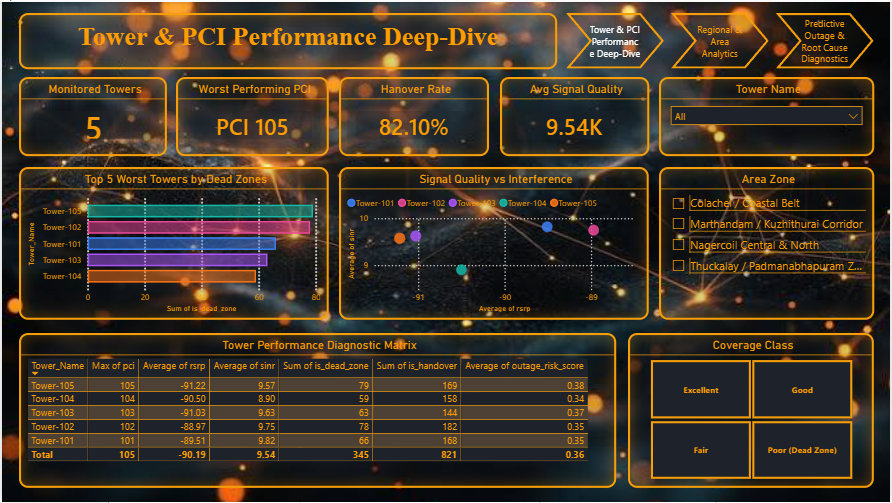

The dashboard page shown, as its layout file describes it:
{"tool":"powerbi","page":{"name":"Tower & PCI Performance Deep-Dive","canvas":[1280,720],"ordinal":1},"visuals":[{"type":"textbox","box":[24.5,15.8,774.7,80.6],"z":0},{"type":"cardVisual","title":"Monitored Towers","fields":{"Data":["Count(processed_drive_test.Tower_Name)"]},"box":[24.5,108,213.1,113.8],"z":1000},{"type":"cardVisual","title":"Worst Performing PCI","fields":{"Data":["processed_drive_test.Worst_PCI"]},"box":[250.6,108,220.3,113.8],"z":2000},{"type":"cardVisual","title":"Hanover Rate","fields":{"Data":["processed_drive_test.Handover_Rate"]},"box":[485.3,108,216,113.8],"z":3000},{"type":"cardVisual","title":"Avg Signal Quality","fields":{"Data":["Sum(processed_drive_test.sinr)"]},"box":[717.1,108,214.6,113.8],"z":4000},{"type":"clusteredBarChart","title":"Top 5 Worst Towers by Dead Zones","fields":{"Category":["processed_drive_test.Tower_Name"],"Y":["Sum(processed_drive_test.is_dead_zone)"]},"box":[24.5,237.6,446.4,220.3],"z":5000},{"type":"scatterChart","title":"Signal Quality vs Interference","fields":{"Series":["processed_drive_test.Tower_Name"],"Size":["Avg(processed_drive_test.outage_risk_score)"],"X":["Avg(processed_drive_test.rsrp)"],"Y":["Avg(processed_drive_test.sinr)"]},"box":[485.3,237.6,446.4,220.3],"z":6000},{"type":"tableEx","title":"Tower Performance Diagnostic Matrix","fields":{"Values":["processed_drive_test.Tower_Name","Max(processed_drive_test.pci)","Avg(processed_drive_test.rsrp)","Avg(processed_drive_test.sinr)","Sum(processed_drive_test.is_dead_zone)","Sum(processed_drive_test.is_handover)","Avg(processed_drive_test.outage_risk_score)"]},"box":[24.5,476.6,859.7,223.2],"z":7000},{"type":"slicer","title":"Tower Name","fields":{"Values":["processed_drive_test.Tower_Name"]},"box":[946.1,108,309.6,113.8],"z":8000},{"type":"slicer","title":"Coverage Class","fields":{"Values":["processed_drive_test.coverage_class"]},"box":[901.4,476.6,354.2,223.2],"z":9000},{"type":"slicer","title":"Area Zone","fields":{"Values":["processed_drive_test.Area_Zone"]},"box":[946.1,237.6,309.6,220.3],"z":10000},{"type":"pageNavigator","box":[812.2,15.8,443.5,80.6],"z":11000}]}

Visuals, with their boxes in screenshot pixels (x1, y1, x2, y2), scaled from the page's 1280x720 canvas onto the 892x503 screenshot:
textbox: (x1=17, y1=11, x2=557, y2=67)
"Monitored Towers" cardVisual: (x1=17, y1=75, x2=166, y2=155)
"Worst Performing PCI" cardVisual: (x1=175, y1=75, x2=328, y2=155)
"Hanover Rate" cardVisual: (x1=338, y1=75, x2=489, y2=155)
"Avg Signal Quality" cardVisual: (x1=500, y1=75, x2=649, y2=155)
"Top 5 Worst Towers by Dead Zones" clusteredBarChart: (x1=17, y1=166, x2=328, y2=320)
"Signal Quality vs Interference" scatterChart: (x1=338, y1=166, x2=649, y2=320)
"Tower Performance Diagnostic Matrix" tableEx: (x1=17, y1=333, x2=616, y2=489)
"Tower Name" slicer: (x1=659, y1=75, x2=875, y2=155)
"Coverage Class" slicer: (x1=628, y1=333, x2=875, y2=489)
"Area Zone" slicer: (x1=659, y1=166, x2=875, y2=320)
pageNavigator: (x1=566, y1=11, x2=875, y2=67)
